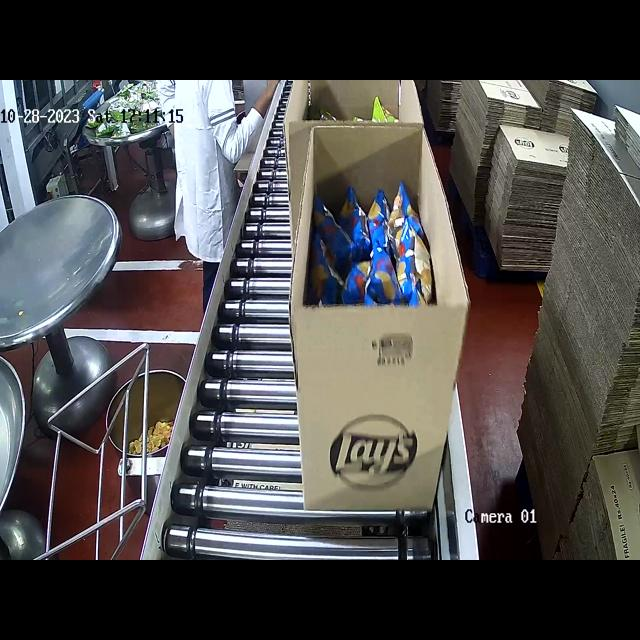paprika: (314, 185, 432, 311)
